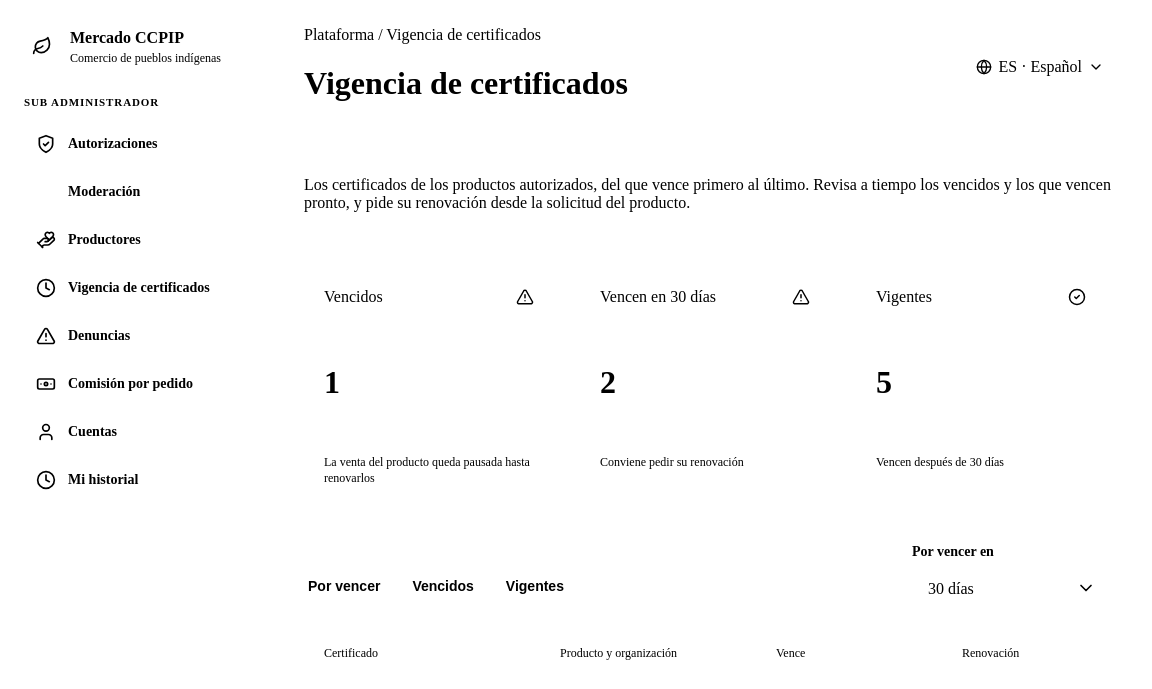
it: Vigencia de certificados (CCPIP-184) › las pestañas y el horizonte consultan lo pedido
The image size is (1152, 689).
Click the tab "Vencidos".
click(443, 587)  # box [408,566,478,609]
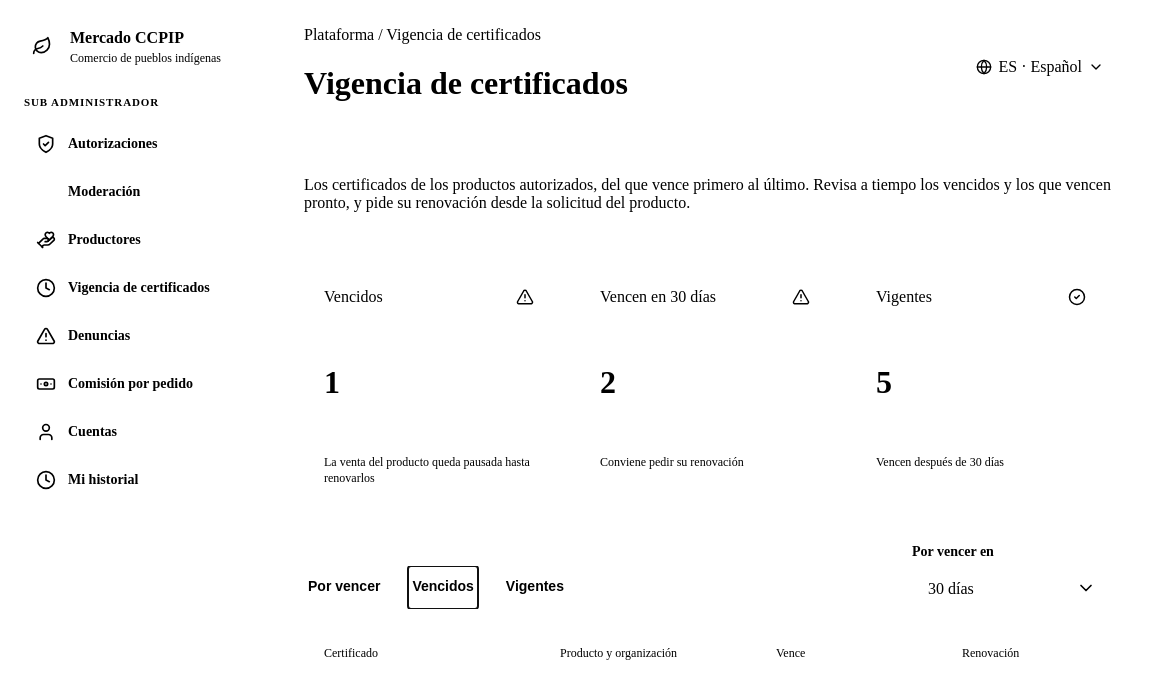
Select "90 días" in the dropdown labelled "Por vencer en" at (1012, 588), box [912,568,1112,609]
(page scrolled)
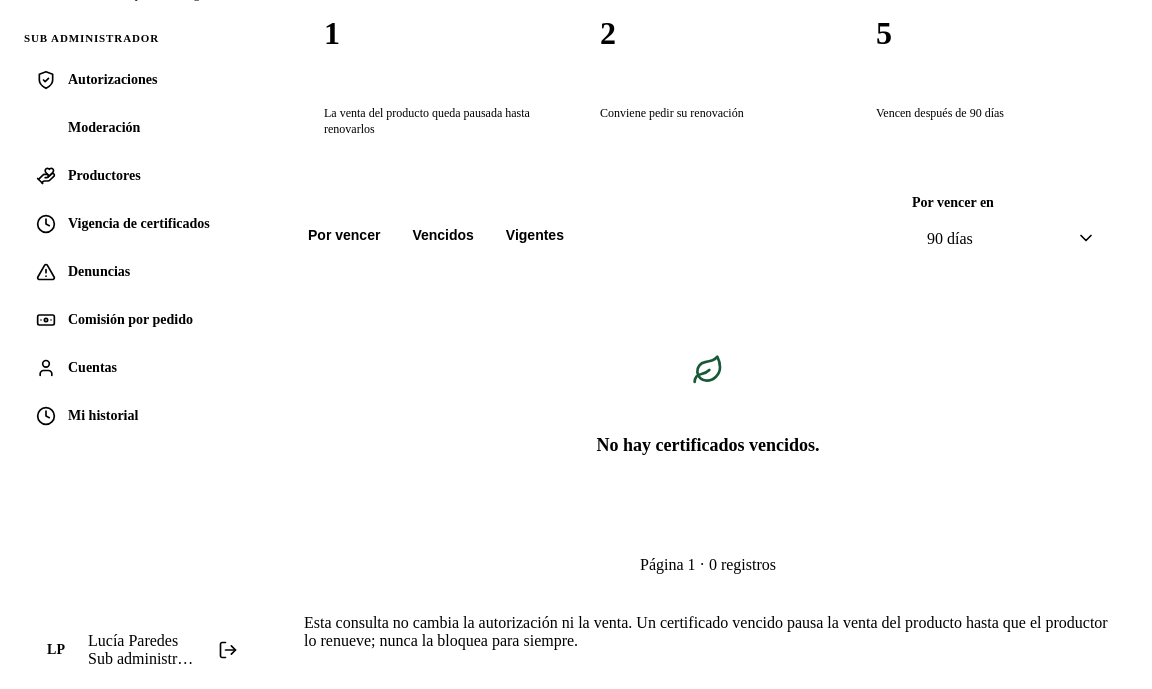
Check: the text "No hay certificados vencidos." is shown, box [596,432,820,458]
